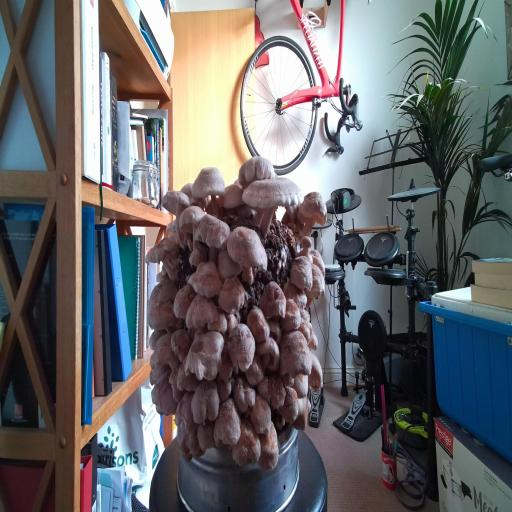Shiitake Mushroom: (222, 147, 323, 246), (216, 210, 277, 296), (154, 175, 209, 254), (133, 226, 199, 287), (184, 200, 241, 270), (215, 315, 269, 380), (223, 415, 272, 481), (182, 320, 227, 390), (187, 155, 231, 220), (245, 364, 299, 414), (141, 328, 185, 387), (204, 243, 251, 292), (254, 276, 293, 333), (230, 149, 282, 190), (293, 184, 331, 237), (146, 369, 181, 425), (173, 197, 208, 252), (298, 261, 332, 317), (165, 361, 209, 404), (240, 301, 276, 351), (166, 276, 201, 325), (162, 320, 199, 366), (140, 275, 186, 312), (245, 392, 278, 442), (189, 375, 221, 426), (274, 382, 307, 429), (276, 276, 315, 315), (200, 305, 237, 346), (187, 259, 223, 301), (280, 330, 312, 377), (170, 390, 200, 440), (175, 424, 207, 470), (238, 352, 273, 393), (184, 290, 219, 330), (214, 398, 241, 446), (212, 179, 250, 212), (217, 274, 246, 316), (256, 422, 280, 472), (144, 299, 180, 331), (211, 343, 238, 385), (161, 228, 184, 275), (194, 415, 220, 455), (231, 376, 257, 415), (304, 245, 334, 277), (143, 320, 171, 353), (182, 242, 214, 270), (256, 336, 280, 372), (290, 255, 314, 291), (292, 392, 312, 434), (280, 297, 302, 333), (166, 367, 186, 405), (145, 362, 175, 386), (295, 308, 314, 344), (213, 374, 234, 406), (232, 200, 259, 221), (309, 351, 323, 391), (280, 205, 299, 228), (293, 373, 309, 399), (180, 182, 194, 205), (268, 322, 282, 344), (308, 329, 320, 352), (299, 235, 312, 255), (281, 372, 294, 387), (194, 197, 208, 210), (184, 232, 193, 252), (165, 219, 176, 232)
